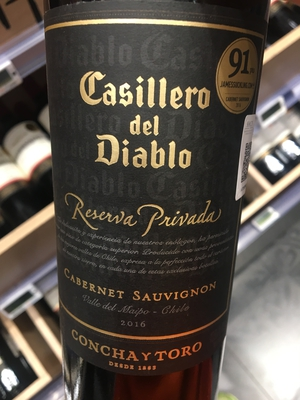casillero del diablo reserva privada cabernet sauvignon: (38, 1, 259, 376)
